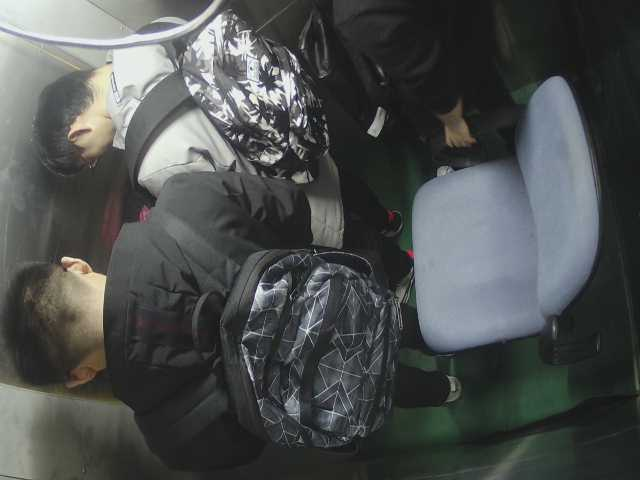bag: (221, 237, 407, 455), (182, 14, 338, 189)
chair: (380, 67, 619, 382)
person: (3, 184, 471, 456), (18, 15, 436, 214)
